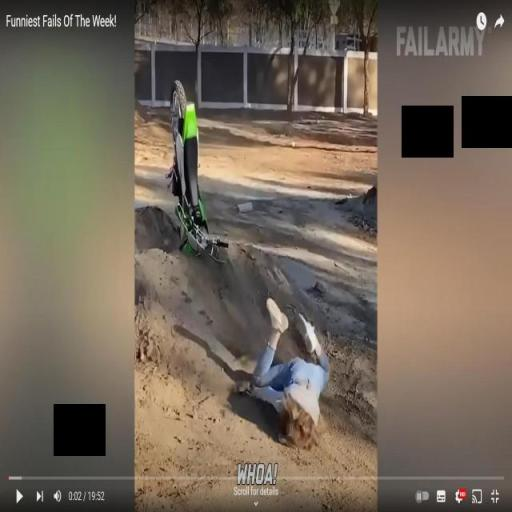Fall: (229, 293, 334, 455)
